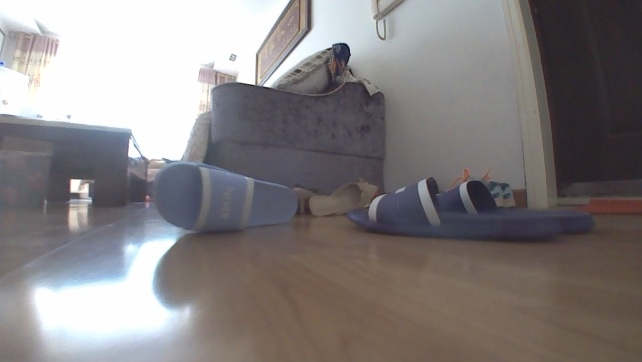slipper: (345, 174, 596, 245), (150, 158, 300, 239), (308, 178, 382, 219)
sofa1: (174, 40, 387, 188)
tea_table: (0, 108, 150, 210)
